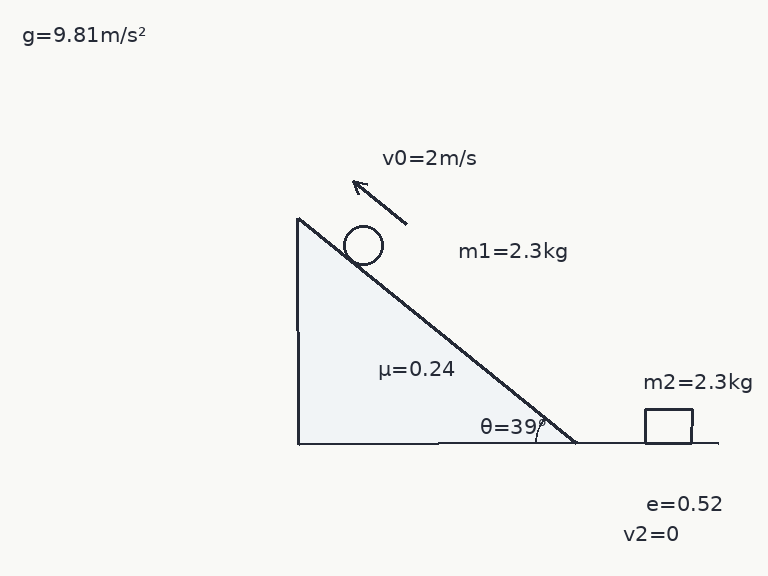ball: (341, 223, 385, 267)
block: (643, 407, 693, 445)
ramp: (296, 216, 578, 445)
